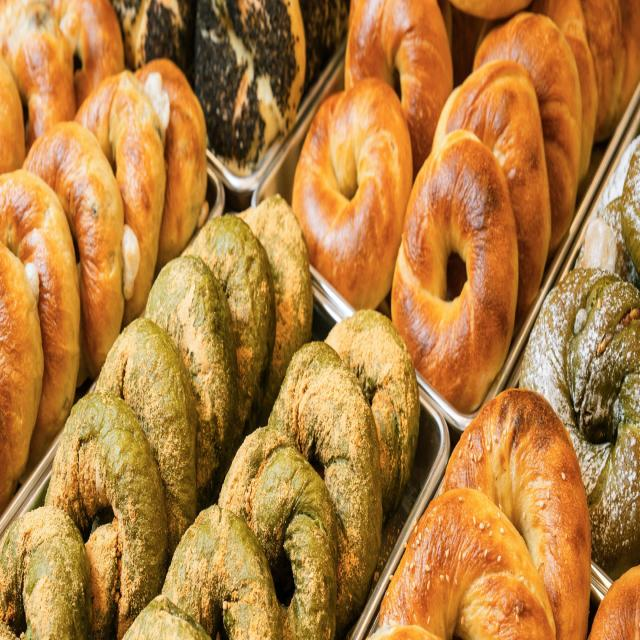Bagel: (520, 268, 640, 578), (444, 391, 591, 639), (391, 131, 519, 413), (269, 343, 382, 635), (46, 391, 168, 639), (292, 78, 412, 310), (446, 59, 551, 324), (374, 488, 556, 638), (474, 11, 581, 255), (24, 123, 125, 378), (220, 424, 338, 639), (98, 318, 198, 562), (0, 170, 80, 463), (146, 257, 239, 509), (75, 70, 166, 324), (189, 215, 276, 451), (326, 310, 420, 519), (345, 0, 452, 174), (240, 195, 312, 424), (162, 505, 282, 639), (0, 508, 92, 639), (0, 243, 44, 512)
